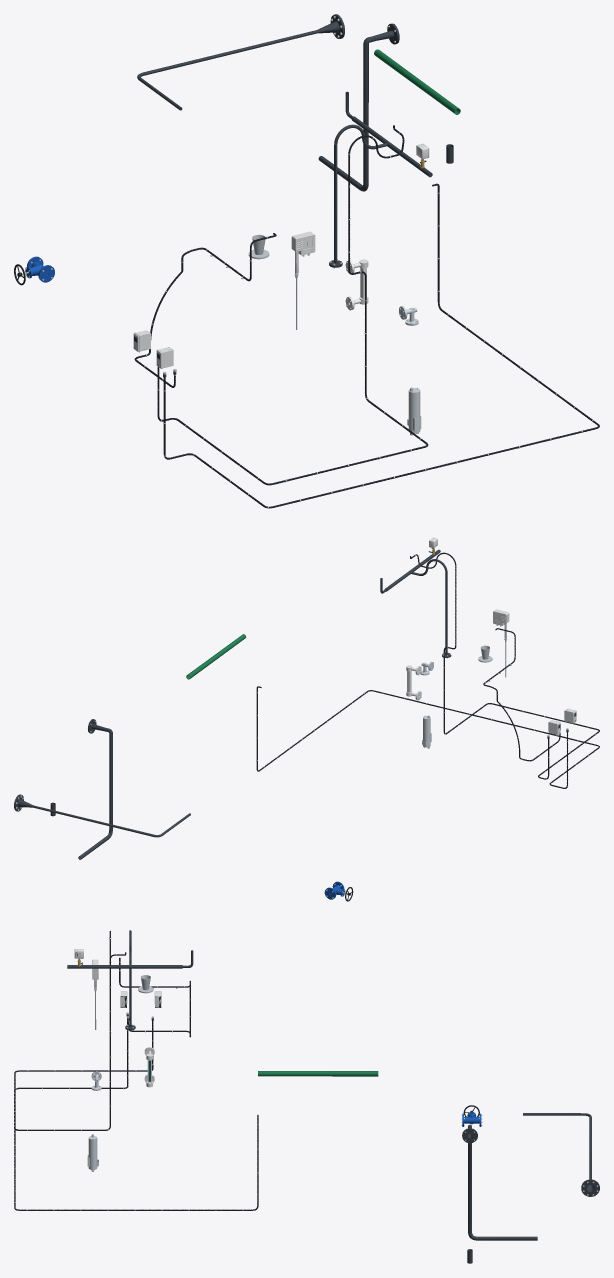
The picture shows the model from 3 angles, top to bottom: view 1: azimuth 30°, elevation 25°; view 2: azimuth 150°, elevation 25°; view 3: azimuth 270°, elevation 25°; orthographic projection. The views are drawn at different scales.
Parts seen in each view (by area): view 1: wiring_pump_1 / black, wiring_pressure_transmitter / black, bottom_to_bdv / dark, pressure_header / dark, tds_to_fv / dark, pump_delivery / green, wiring_lp400 / black, lcs600 CAD solid 0, drain_isolation_1 / drain_isolation_1_0.npz; view 2: wiring_pump_1 / black, wiring_pressure_transmitter / black, bottom_to_bdv / dark, pressure_header / dark, tds_to_fv / dark; view 3: wiring_pump_1 / black, wiring_pressure_transmitter / black, bottom_to_bdv / dark, pressure_header / dark, pump_delivery / green, tds_to_fv / dark.
Part boxes in pixels (bbox=[...]): wiring_pump_1 / black: bbox=[163, 183, 599, 508]; wiring_pressure_transmitter / black: bbox=[157, 125, 428, 485]; bottom_to_bdv / dark: bbox=[318, 23, 399, 191]; pressure_header / dark: bbox=[329, 91, 432, 267]; tds_to_fv / dark: bbox=[137, 14, 344, 110]; pump_delivery / green: bbox=[374, 49, 460, 114]; wiring_lp400 / black: bbox=[134, 233, 276, 387]; lcs600 CAD solid 0: bbox=[291, 231, 315, 329]; drain_isolation_1 / drain_isolation_1_0.npz: bbox=[14, 256, 54, 285]; wiring_pump_1 / black: bbox=[256, 686, 599, 788]; wiring_pressure_transmitter / black: bbox=[410, 552, 599, 779]; bottom_to_bdv / dark: bbox=[78, 719, 112, 859]; pressure_header / dark: bbox=[380, 549, 451, 657]; tds_to_fv / dark: bbox=[14, 794, 190, 837]; wiring_pump_1 / black: bbox=[14, 1021, 258, 1210]; wiring_pressure_transmitter / black: bbox=[14, 931, 153, 1130]; bottom_to_bdv / dark: bbox=[462, 1124, 537, 1240]; pressure_header / dark: bbox=[67, 930, 193, 1030]; pump_delivery / green: bbox=[258, 1071, 378, 1076]; tds_to_fv / dark: bbox=[523, 1113, 599, 1196].
Size of the model in its own units: 4.71 by 2.58 by 6.08.
